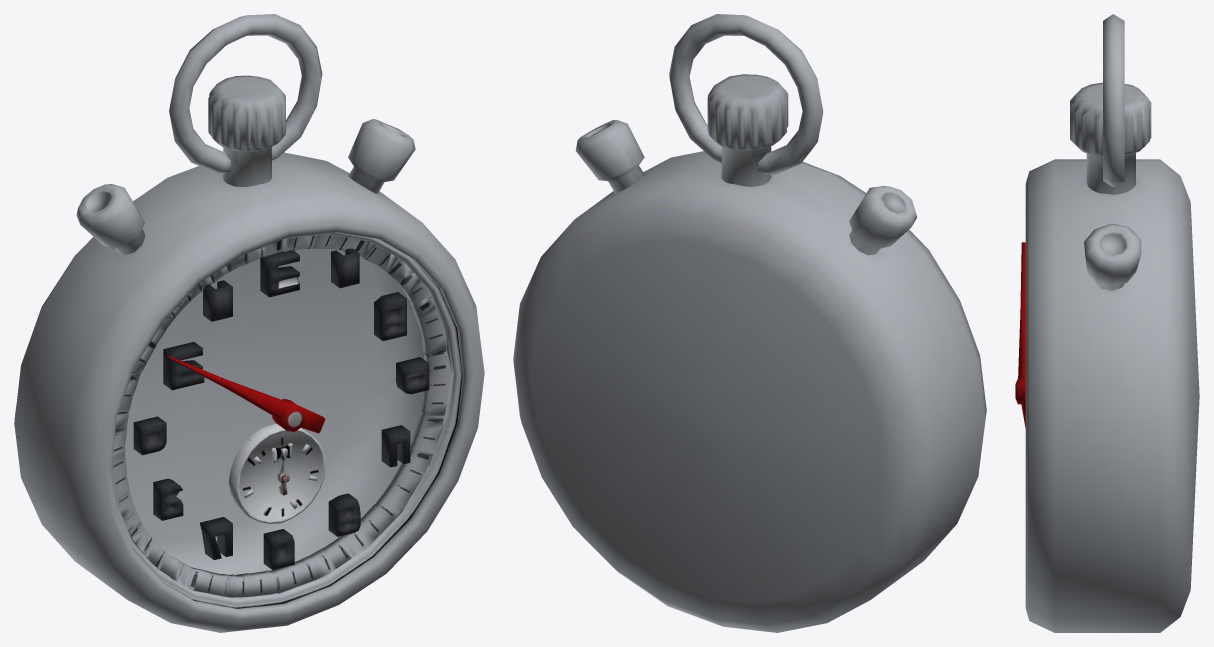
The model's file is stopwatch 3d model.glb.
3 views of the same model, side by side, from view 1: azimuth 30°, elevation 25°; view 2: azimuth 150°, elevation 25°; view 3: azimuth 270°, elevation 25° (orthographic).
Visible parts, largest first — view 1: tripo_node_5e469a7c-7e82-41db-83fe-c972d977867c; view 2: tripo_node_5e469a7c-7e82-41db-83fe-c972d977867c; view 3: tripo_node_5e469a7c-7e82-41db-83fe-c972d977867c.
Part boxes in pixels (box(x1,y1,x2,y2)): tripo_node_5e469a7c-7e82-41db-83fe-c972d977867c: box(14, 14, 484, 632); tripo_node_5e469a7c-7e82-41db-83fe-c972d977867c: box(513, 14, 986, 632); tripo_node_5e469a7c-7e82-41db-83fe-c972d977867c: box(1015, 14, 1199, 632).
Size of the model in its own units: 0.7363 by 0.998 by 0.2832.
Materials: 1 (1 with a texture image).
